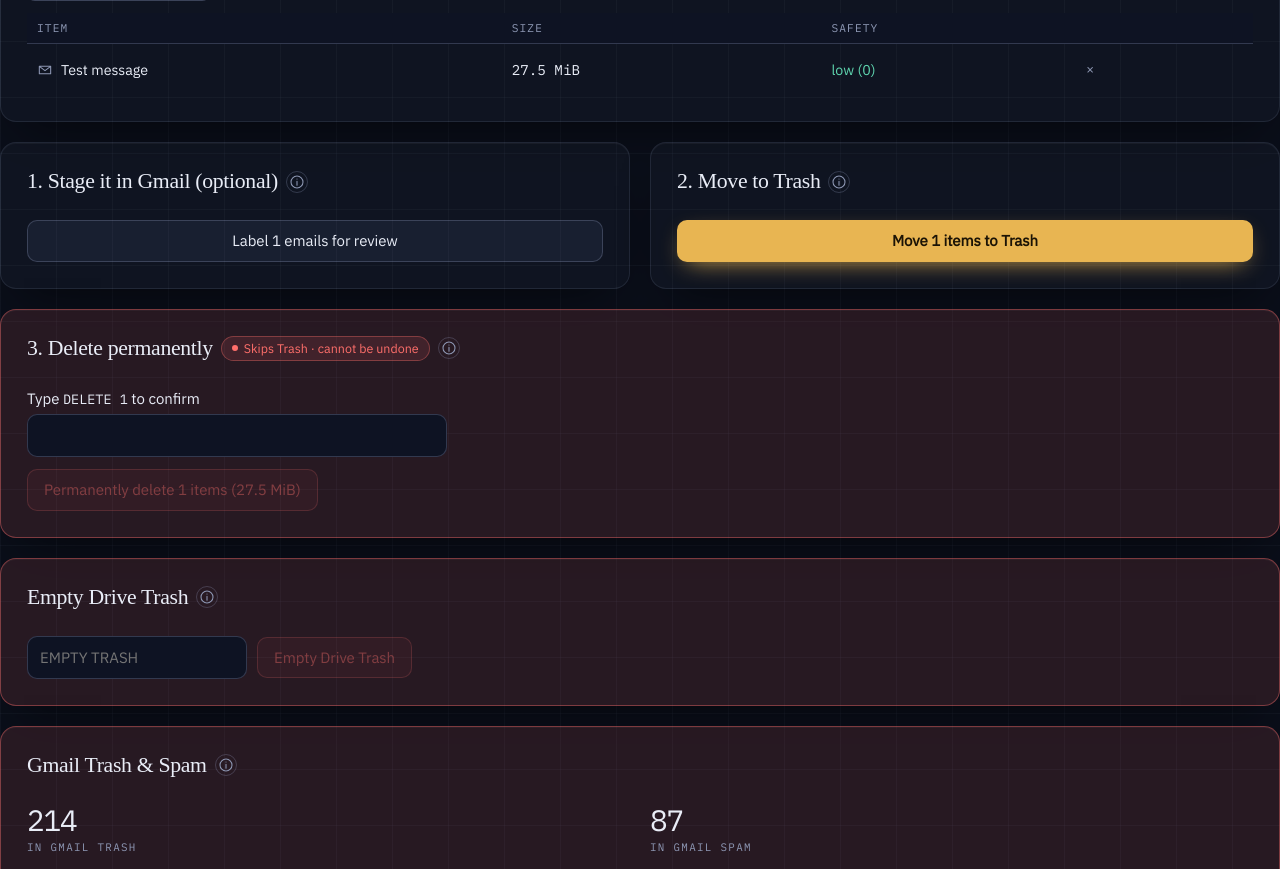
Test case: Airlock destructive actions › keeps permanent deletion behind the typed DELETE count
(page scrolled)
Check: the button "Permanently delete 1 items (27.5 MiB)" is disabled, box top-left (27, 469), bottom-right (318, 511)
Step 1. Type "DELETE 2" into the field named "Confirmation text" → (237, 436), box top-left (27, 414), bottom-right (447, 458)
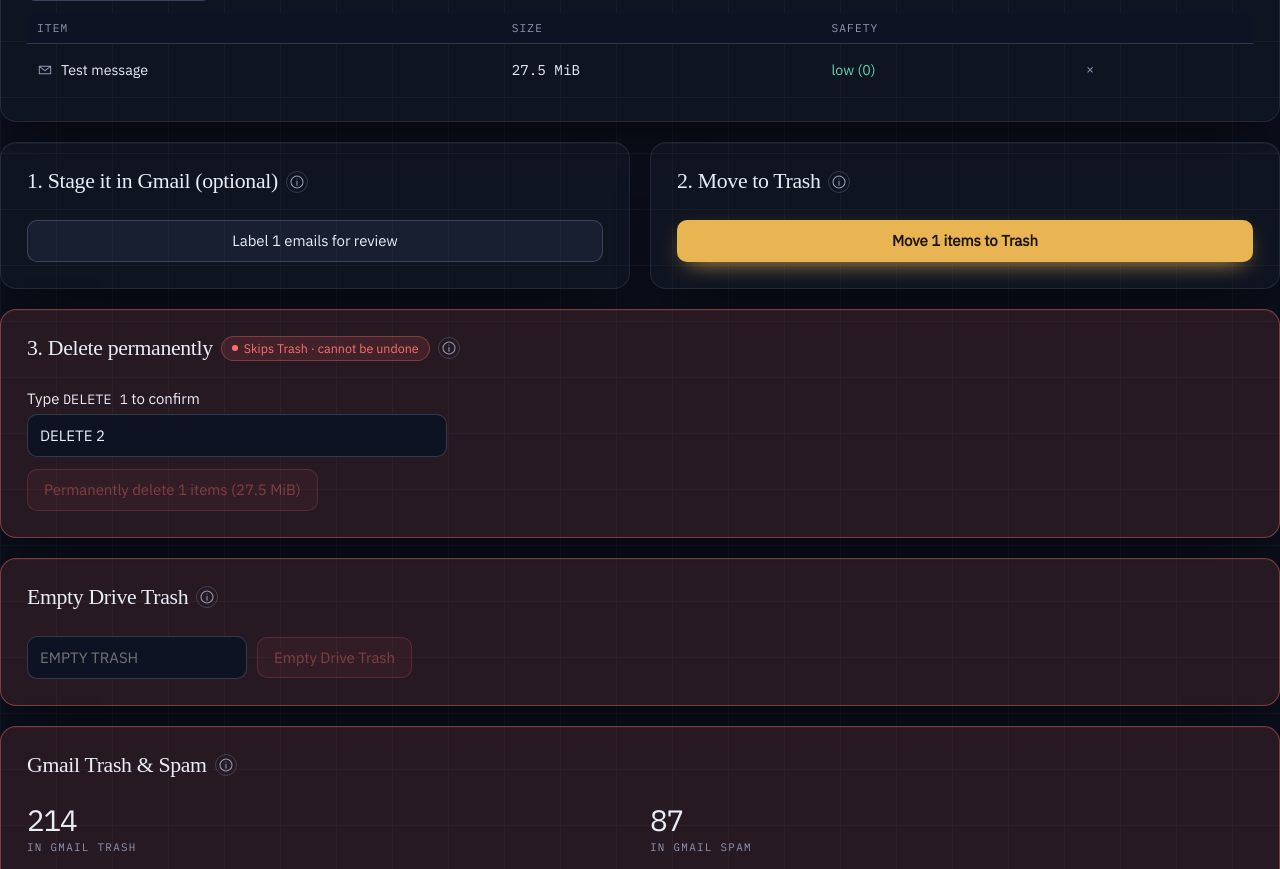
Check: the button "Permanently delete 1 items (27.5 MiB)" is disabled, box top-left (27, 469), bottom-right (318, 511)
Step 2. Replace the text in the field named "Confirmation text" with "DELETE 1" → (237, 436), box top-left (27, 414), bottom-right (447, 458)
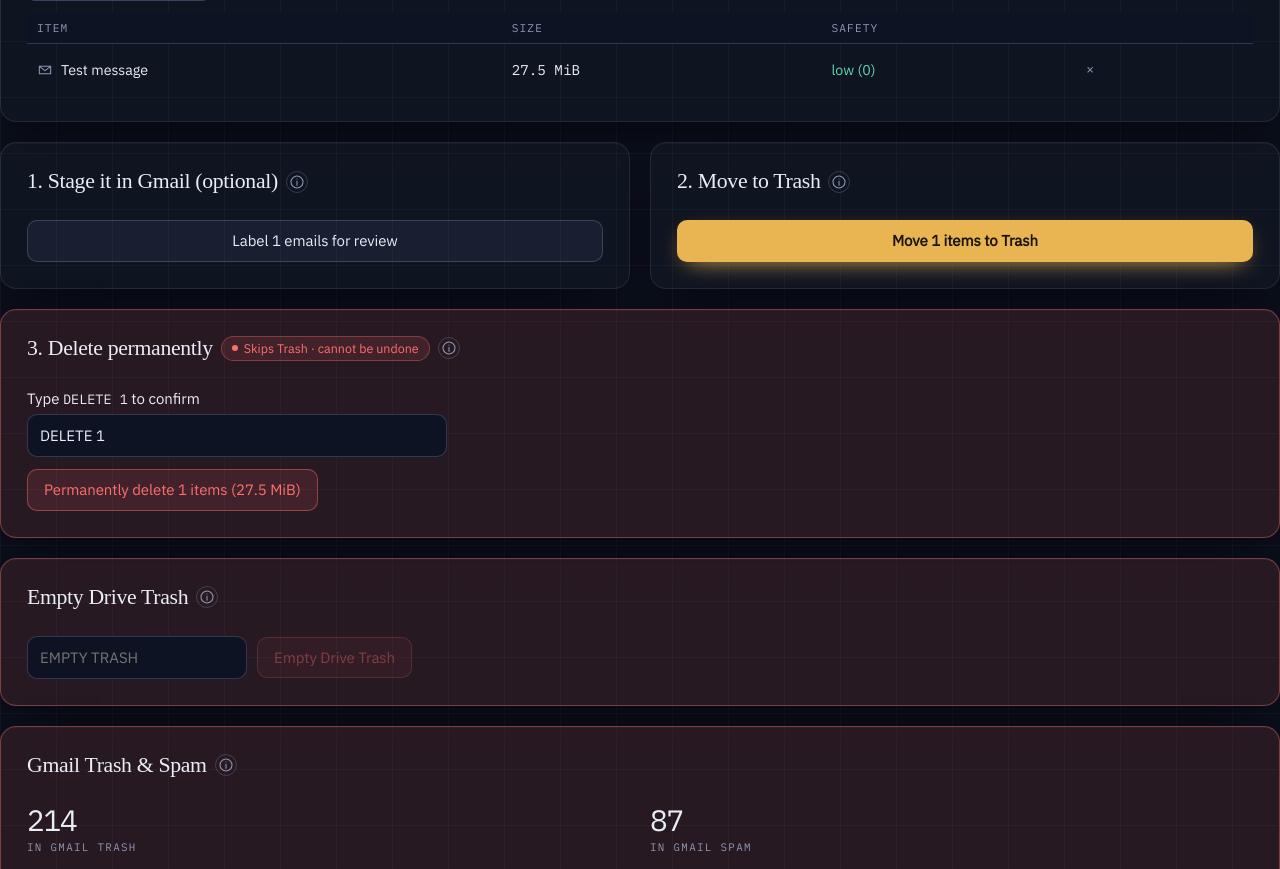
Check: the button "Permanently delete 1 items (27.5 MiB)" is enabled, box top-left (27, 469), bottom-right (318, 511)
